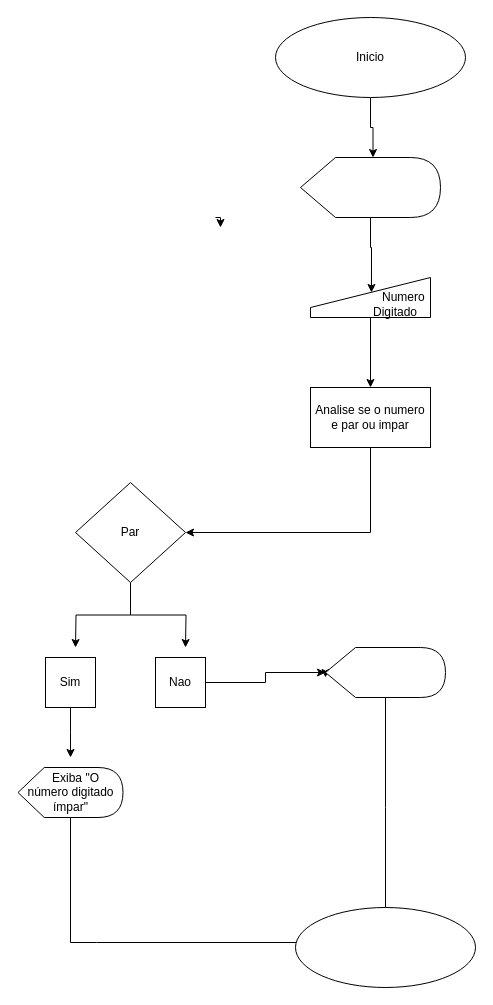
This 493x1005 diagram has some shape labels left out. The shapes that lost their labels are listed below. From the top down, each one's box as (x1, y1, x2, y2) in pixels, then its label:
(300, 156, 440, 218): Digite um numero inteiro qualquer
(324, 646, 446, 698): Exiba "O número digitado e ímpar'
(294, 906, 476, 988): Fim
